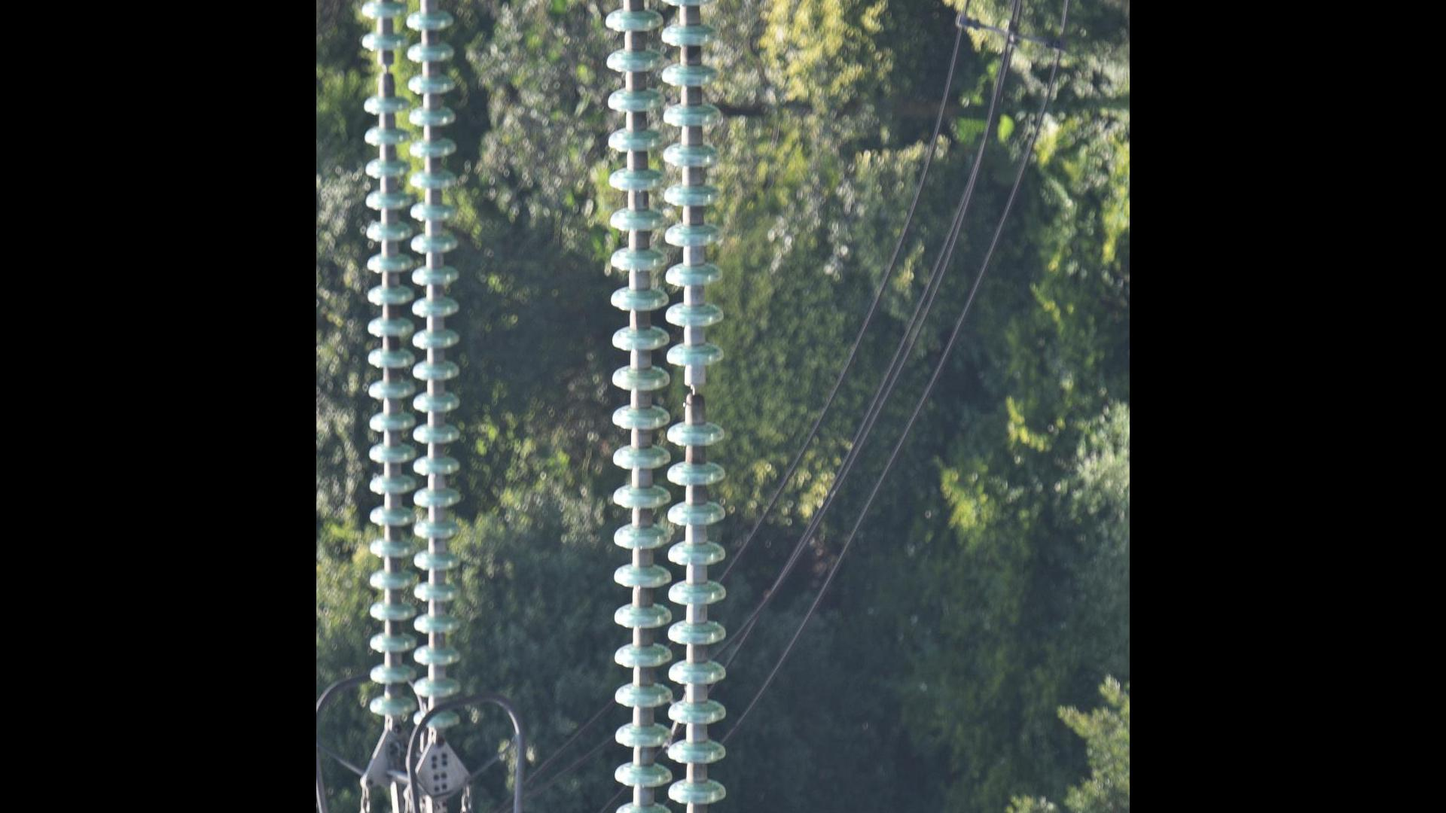insulator: (597, 1, 736, 813), (347, 1, 470, 738)
insulator_stringdrop: (663, 336, 730, 455), (358, 26, 413, 123)
